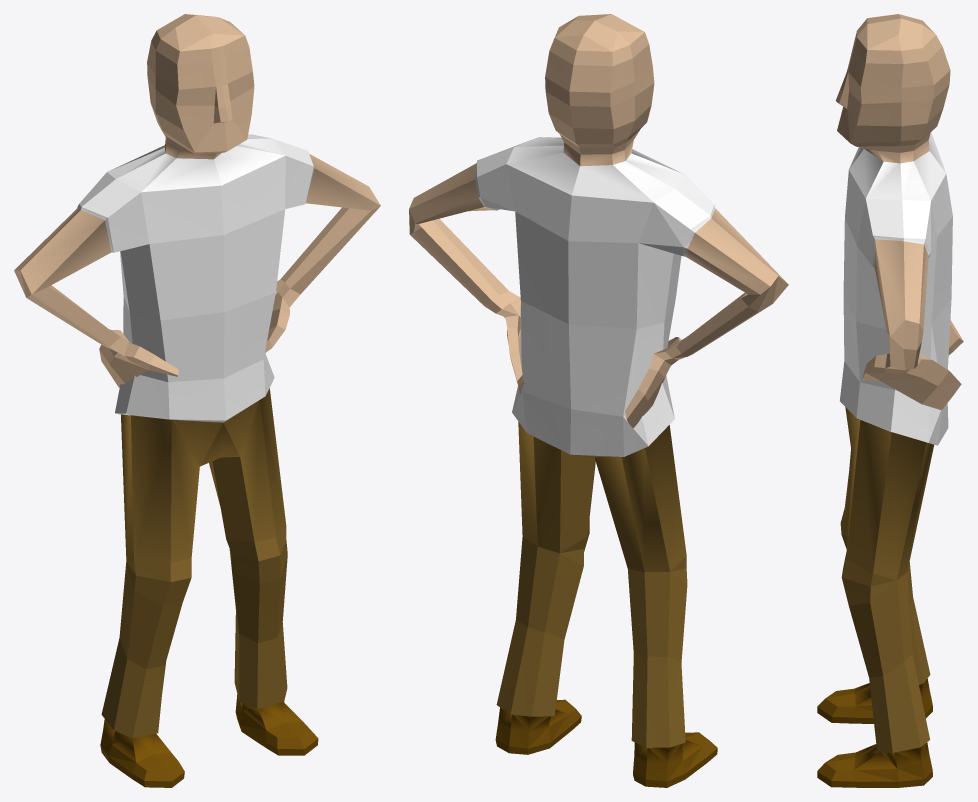
3 views of the same model, side by side, from view 1: azimuth 30°, elevation 25°; view 2: azimuth 150°, elevation 25°; view 3: azimuth 270°, elevation 25° (orthographic).
Visible parts, largest first — view 1: shirt, pants, body, shoes; view 2: shirt, pants, body, shoes; view 3: body, pants, shirt, shoes.
Part boxes in pixels (x1,y1,x2,y2): shirt: (77,134,314,422); pants: (101,388,287,738); body: (14,14,380,387); shoes: (100,694,318,787); shirt: (474,137,715,456); pants: (496,421,687,747); body: (409,14,788,428); shoes: (495,699,717,787); body: (835,14,963,410); pants: (840,407,934,752); shirt: (840,132,952,445); shoes: (817,678,932,787).
Bounding box in the file's own units: 0.755 × 1.46 × 0.2674.
